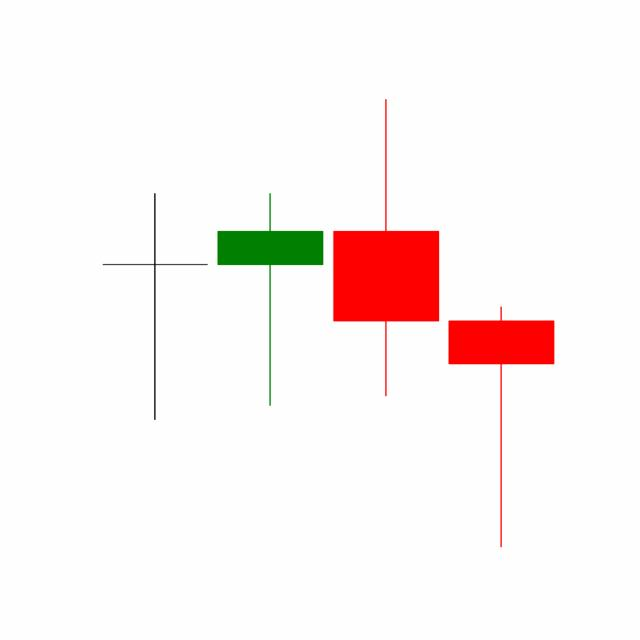Hammer: (443, 304, 559, 550)
